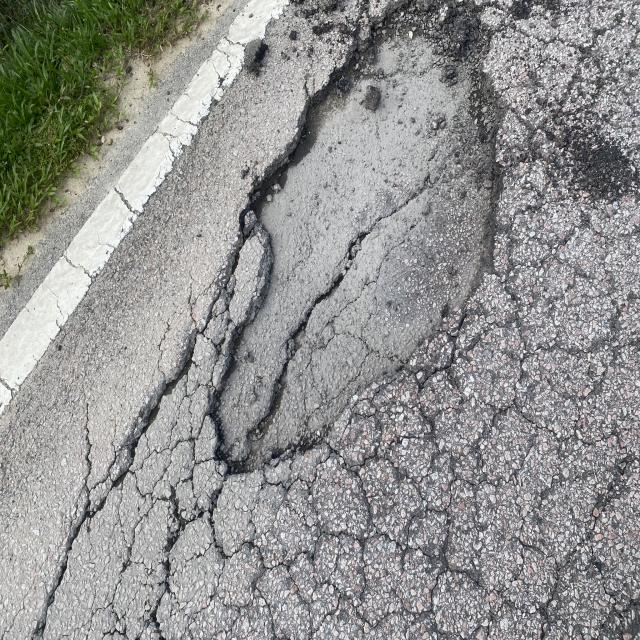Pothole: (167, 0, 601, 508)
